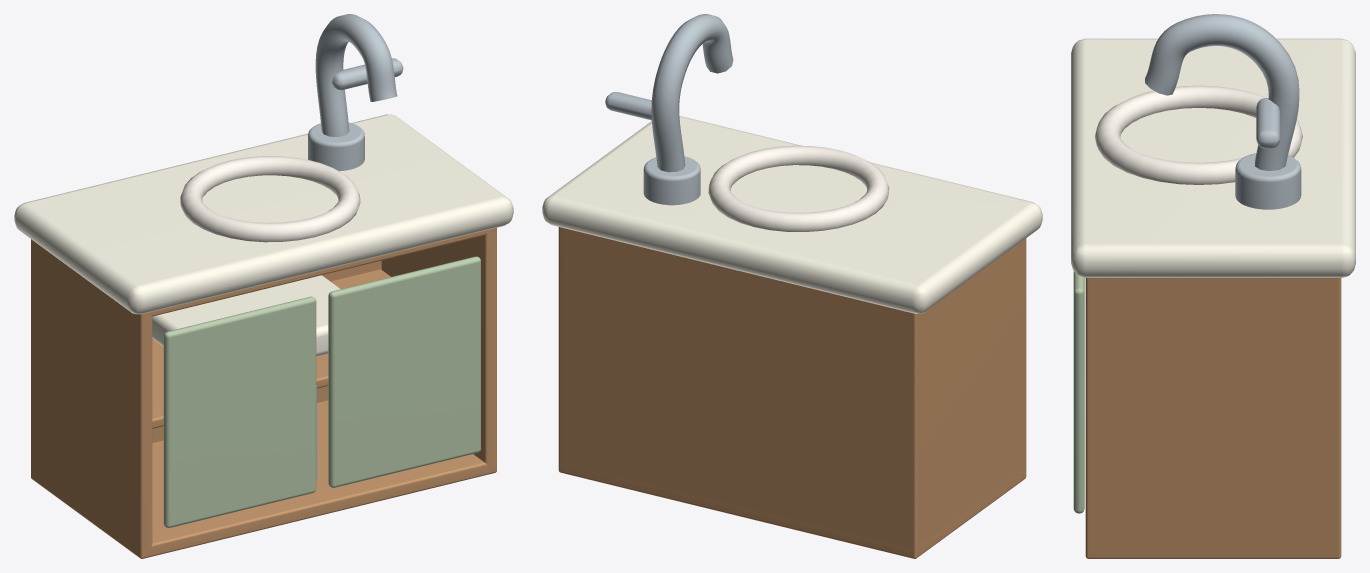
Rendered from bathroomWcFurniture.glb.
3 views of the same model, side by side, from view 1: azimuth 30°, elevation 25°; view 2: azimuth 150°, elevation 25°; view 3: azimuth 270°, elevation 25° (orthographic). The views are drawn at different scales.
Parts seen in each view (by area): view 1: Vanity top, Cabinet door, Cabinet door.001, Storage inner side, Storage inner floor, Sink rim, Storage inner side.001, Curved tap, Stored folded linen, Tap base, Storage interior shelf, Storage inner floor.001 (+2 smaller); view 2: Storage inner back, Vanity top, Storage inner side, Sink rim, Curved tap, Storage inner floor, Storage inner side.001, Tap base, Tap lever, Storage inner floor.001; view 3: Storage inner side.001, Vanity top, Curved tap, Sink rim, Tap base, Cabinet door.001, Tap lever, Storage inner back, Storage inner floor.001.
Boxes of the visible parts, left/top/right/bottom form: Vanity top: left=14, top=114, right=513, bottom=314; Cabinet door: left=163, top=296, right=316, bottom=527; Cabinet door.001: left=328, top=256, right=480, bottom=487; Storage inner side: left=31, top=239, right=152, bottom=558; Storage inner floor: left=31, top=400, right=496, bottom=558; Sink rim: left=180, top=156, right=360, bottom=242; Storage inner side.001: left=381, top=229, right=496, bottom=473; Curved tap: left=315, top=14, right=397, bottom=136; Stored folded linen: left=152, top=275, right=340, bottom=356; Tap base: left=308, top=122, right=364, bottom=171; Storage interior shelf: left=152, top=269, right=390, bottom=428; Storage inner floor.001: left=136, top=228, right=496, bottom=317; Storage inner back: left=559, top=229, right=921, bottom=558; Vanity top: left=542, top=116, right=1042, bottom=313; Storage inner side: left=905, top=238, right=1026, bottom=558; Sink rim: left=708, top=145, right=889, bottom=231; Curved tap: left=651, top=14, right=733, bottom=172; Storage inner floor: left=559, top=462, right=1025, bottom=558; Storage inner side.001: left=558, top=227, right=568, bottom=474; Tap base: left=643, top=156, right=700, bottom=205; Tap lever: left=605, top=92, right=651, bottom=120; Storage inner floor.001: left=586, top=234, right=913, bottom=316; Storage inner side.001: left=1085, top=278, right=1341, bottom=558; Vanity top: left=1071, top=38, right=1355, bottom=277; Curved tap: left=1145, top=14, right=1299, bottom=170; Sink rim: left=1095, top=85, right=1302, bottom=184; Tap base: left=1235, top=153, right=1301, bottom=209; Cabinet door.001: left=1073, top=271, right=1084, bottom=513; Tap lever: left=1256, top=98, right=1279, bottom=148; Storage inner back: left=1328, top=278, right=1341, bottom=558; Storage inner floor.001: left=1085, top=278, right=1340, bottom=280.
Size of the model in its own units: 1.4 by 1.5 by 0.78.
